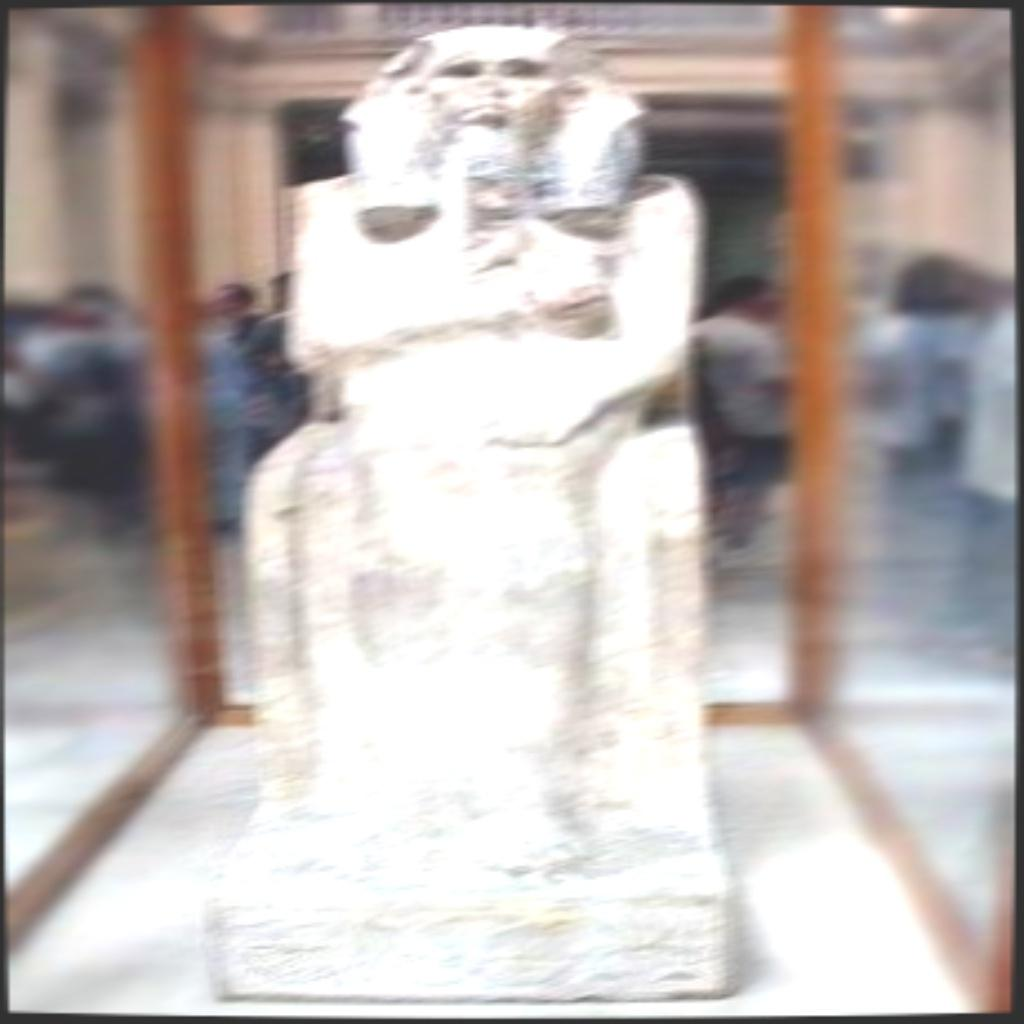Statue of King Zoser: (204, 18, 744, 1002)
